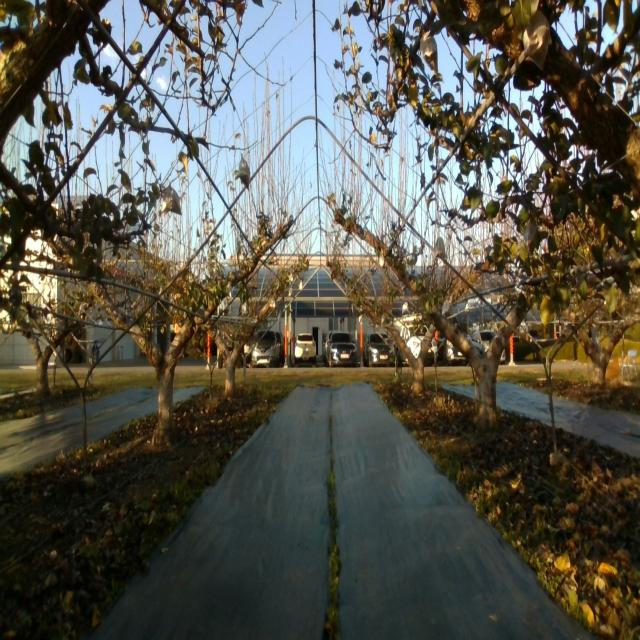pearbags: (421, 32, 439, 76), (162, 185, 182, 216), (238, 156, 251, 190), (434, 238, 447, 260)
